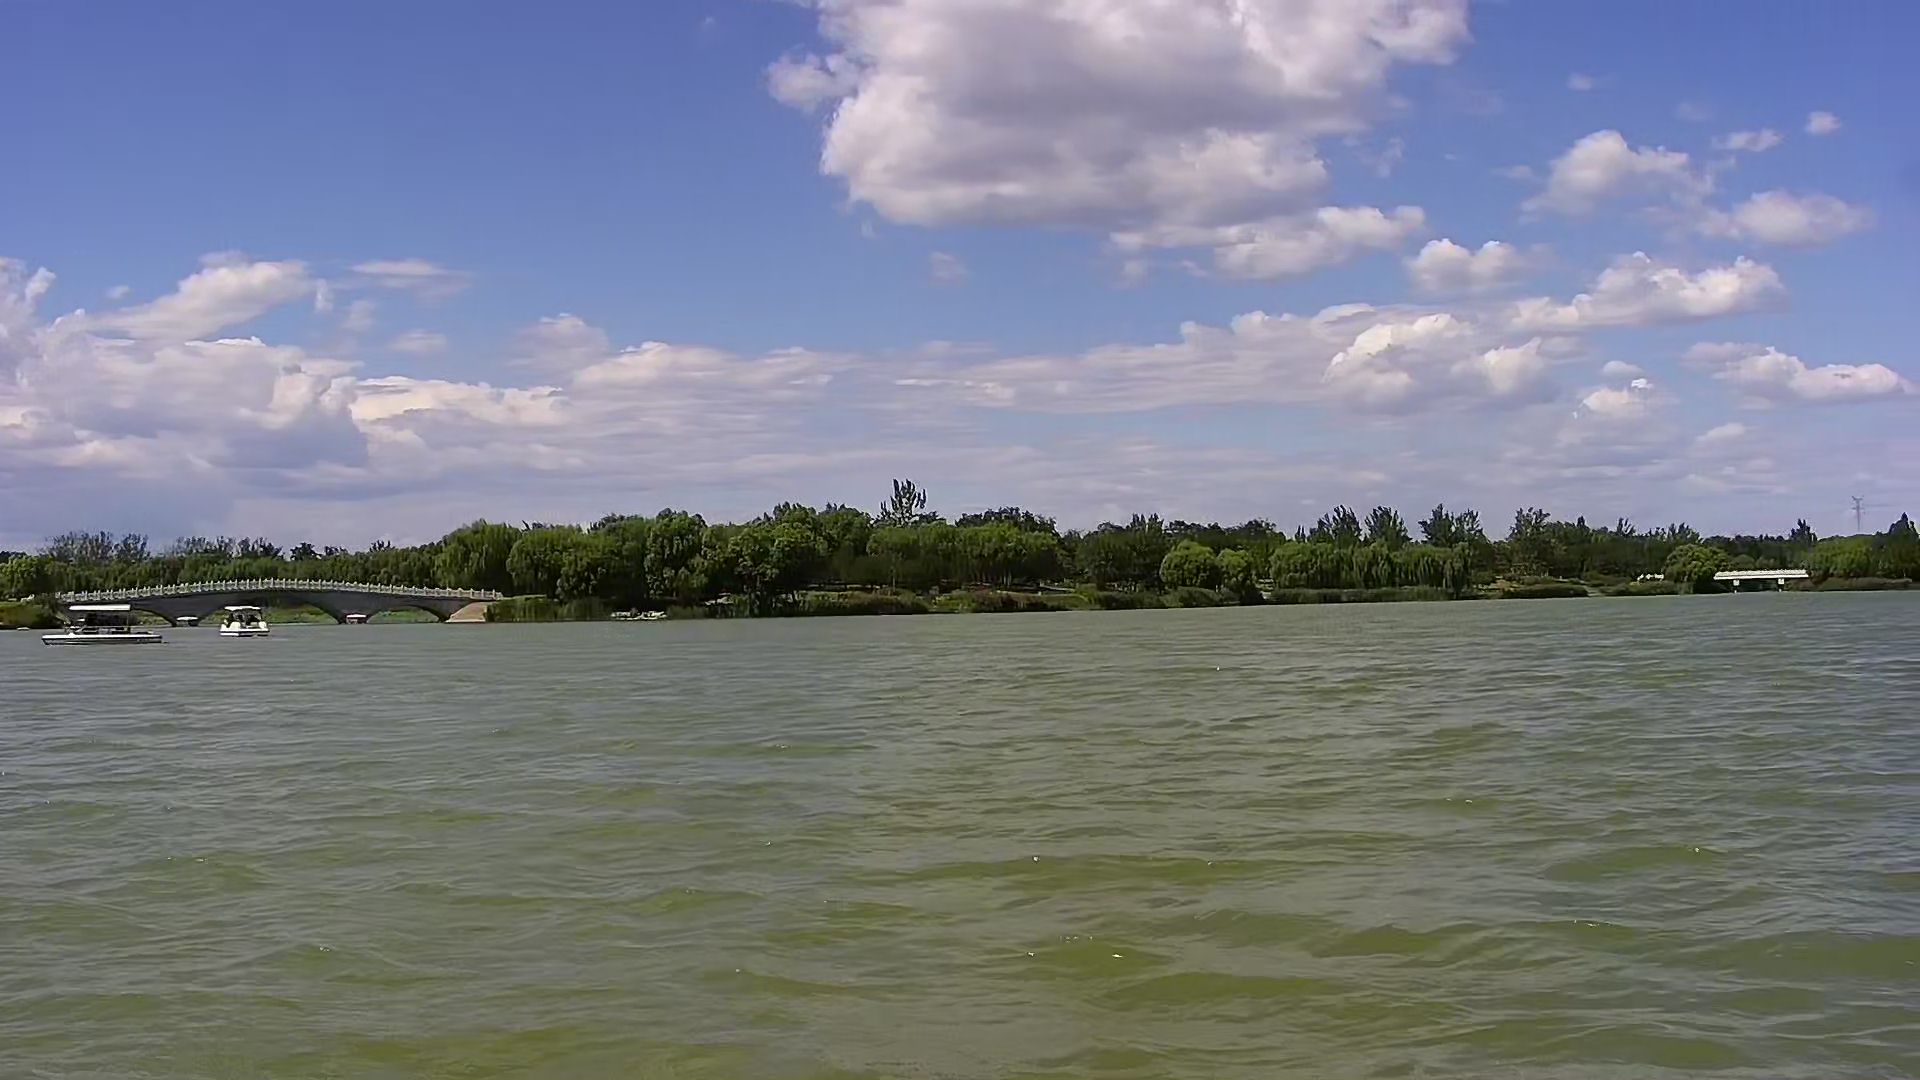boat: (37, 597, 169, 655), (215, 589, 276, 636)
bridge: (49, 578, 512, 620)
